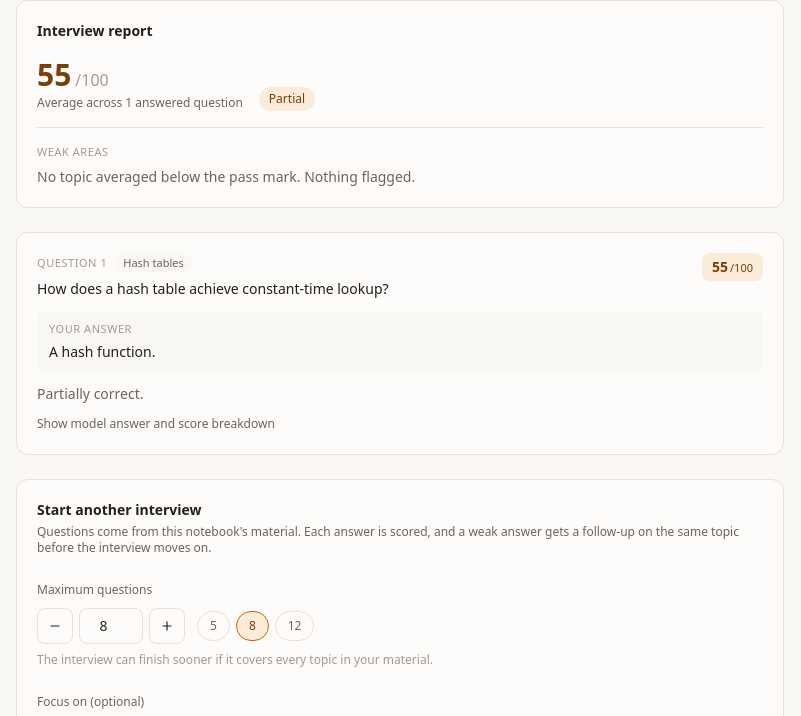
it: InterviewView › reveals the model answer and the score breakdown on request
This screenshot has width=801, height=716.
(page scrolled)
Check: the text "Partially correct." is shown, box [37, 384, 144, 402]
Click the button "Show model answer and score breakdown" at (156, 424), box [37, 416, 275, 432]
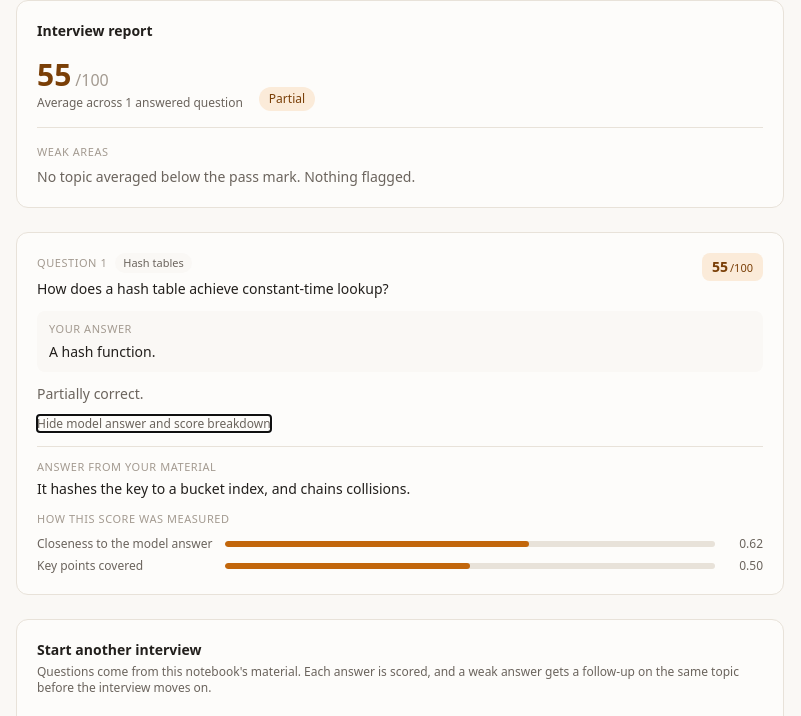
Check: the text "Answer from your material" is shown, box [37, 458, 216, 474]
Check: the text "It hashes the key to a bucket index, and chains collisions." is shown, box [37, 479, 410, 498]
Check: the text "Closeness to the model answer" is shown, box [37, 536, 213, 552]
